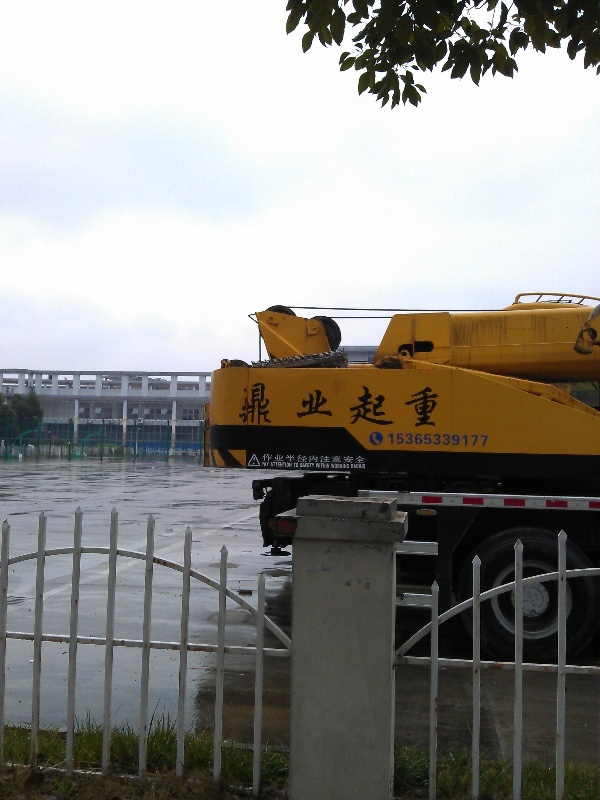text: (241, 381, 256, 429), (257, 381, 272, 429), (273, 381, 288, 429), (289, 381, 304, 429), (305, 381, 320, 429), (321, 381, 336, 429), (337, 381, 352, 429), (353, 381, 368, 429), (369, 381, 384, 429), (385, 381, 400, 429), (401, 381, 416, 429), (417, 381, 432, 429), (433, 381, 439, 429), (401, 433, 416, 447), (417, 433, 432, 447), (433, 433, 448, 447), (449, 433, 464, 447), (465, 433, 480, 447), (387, 433, 400, 447), (273, 454, 288, 464), (289, 454, 304, 464), (305, 454, 320, 464), (321, 454, 336, 464), (337, 454, 352, 464), (353, 454, 366, 464), (481, 433, 489, 447), (238, 381, 240, 429), (263, 454, 272, 464), (273, 462, 288, 468), (337, 463, 350, 469), (353, 464, 366, 469), (321, 463, 330, 469), (262, 462, 272, 467), (294, 463, 304, 468), (305, 463, 315, 468), (331, 463, 336, 469), (316, 463, 320, 469), (289, 462, 292, 468), (301, 463, 304, 468), (271, 462, 272, 468), (351, 464, 352, 469)
